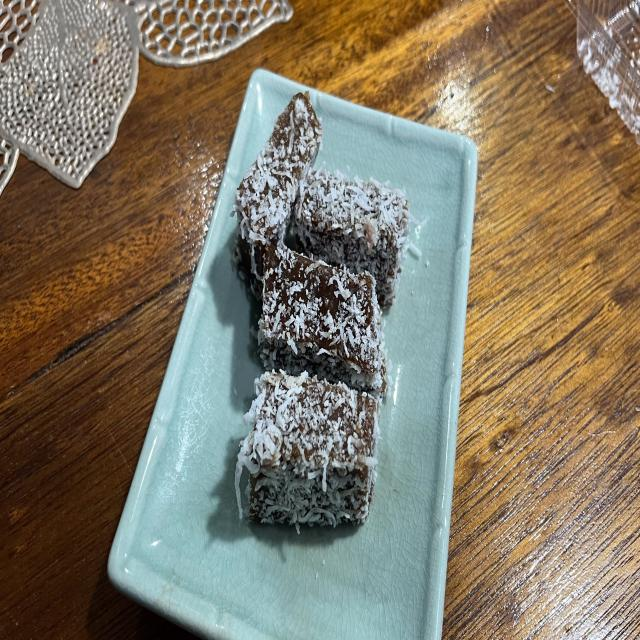kaswi: (235, 371, 380, 531), (258, 244, 388, 398), (234, 91, 322, 298), (294, 169, 410, 309)
